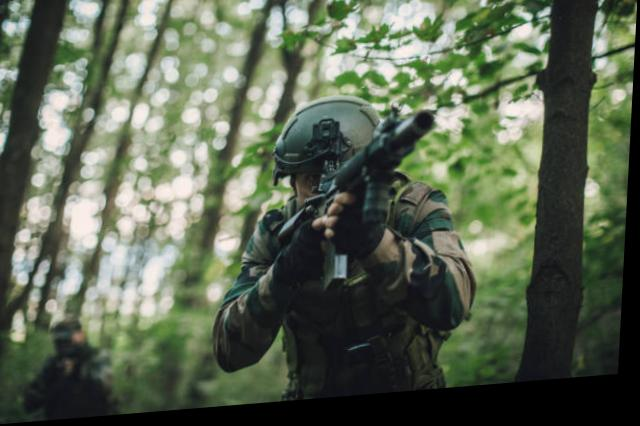other: (241, 98, 443, 395)
